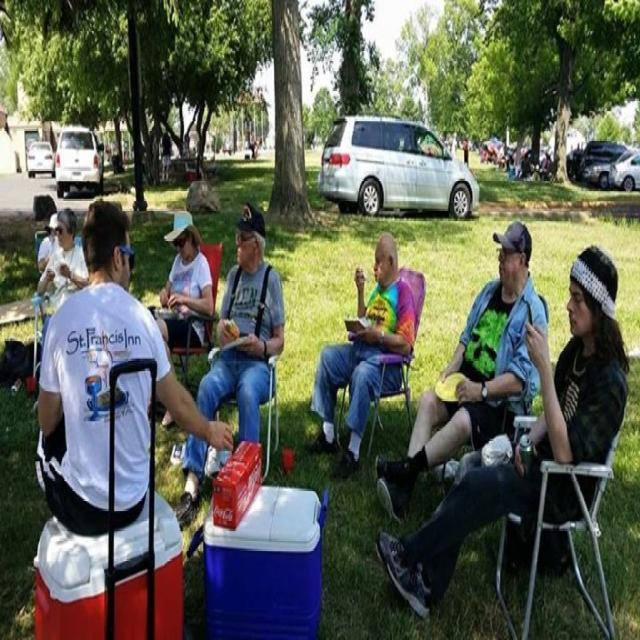car: (316, 109, 476, 211), (53, 124, 101, 199), (23, 139, 53, 177)
